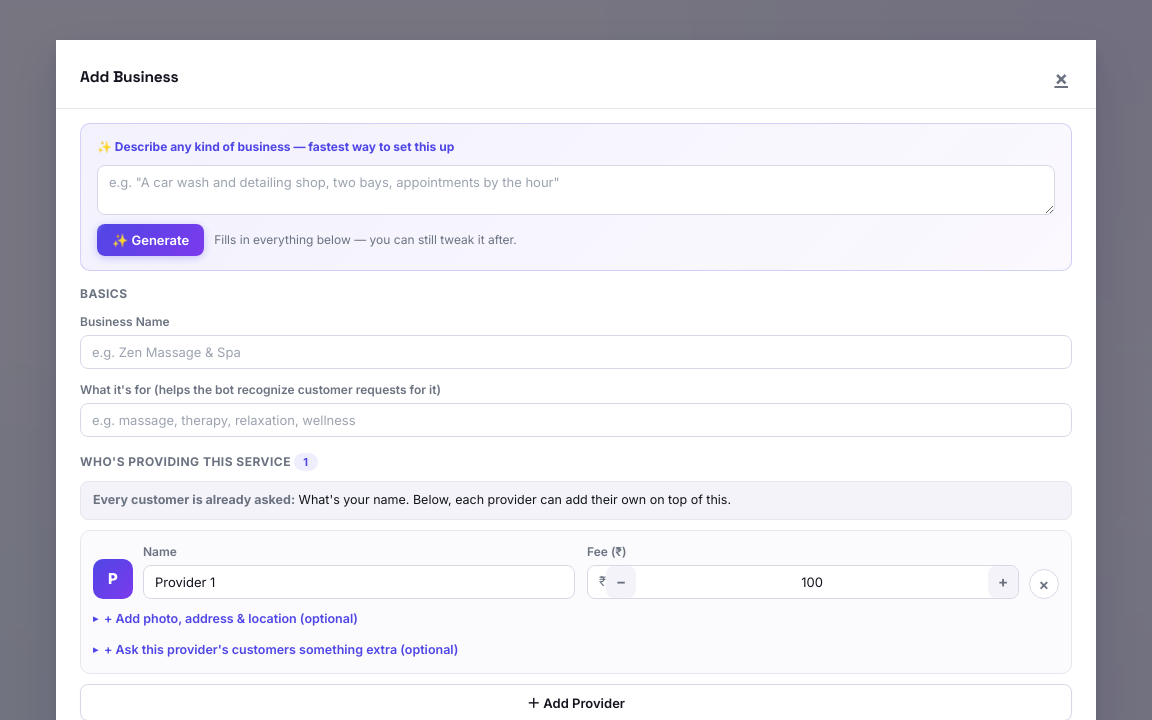
Test: WorkflowEditorModal › suggests salon-relevant extra questions once the business name says so, not a generic default
Type "Rico's Hair Salon" into the field with placeholder "e.g. Zen Massage & Spa" at [576, 352], box [80,335,1072,369]
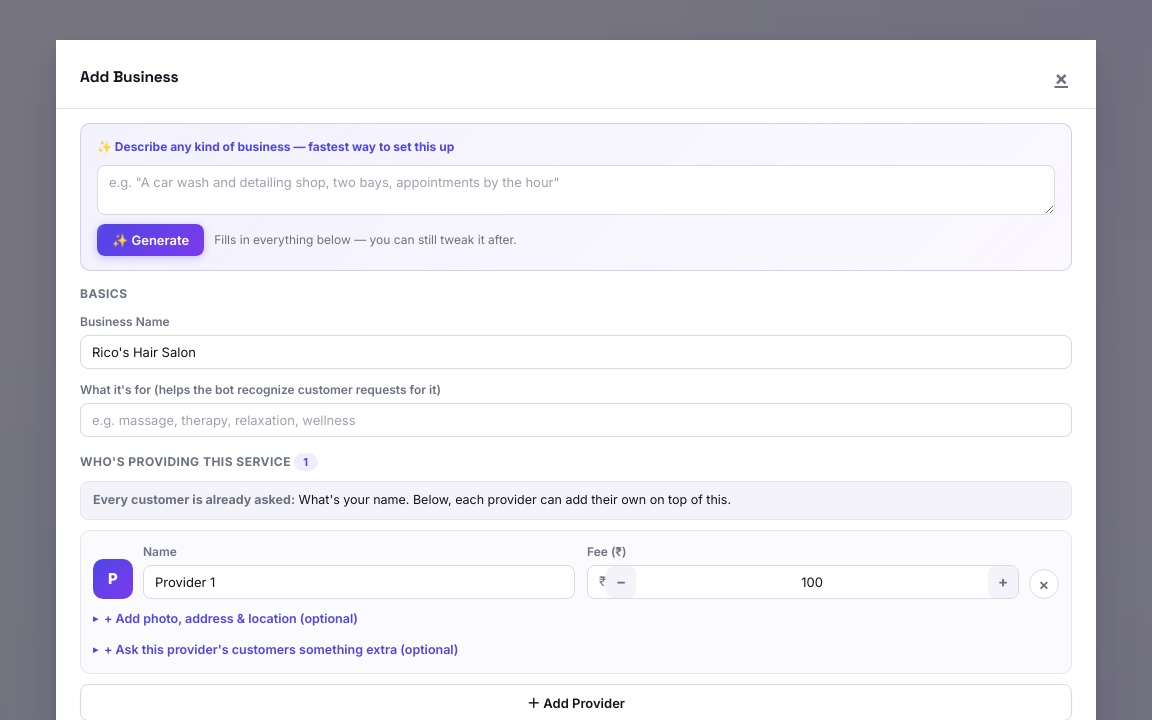
Click the button "▸ + Ask this provider's customers something extra (optional)" at [281, 649], box [93,638,1059,661]
(page scrolled)
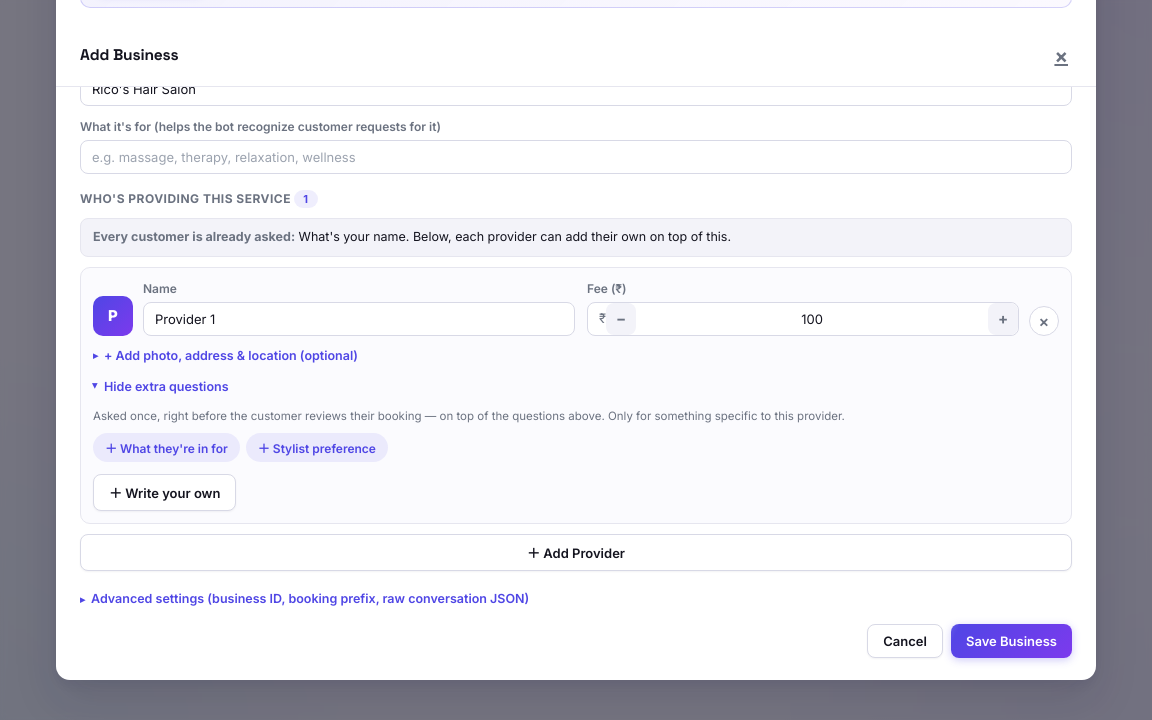
expect the button "＋ What they're in for" is shown: met, box [93,433,240,462]
expect the button "＋ Stylist preference" is shown: met, box [246,433,388,462]
